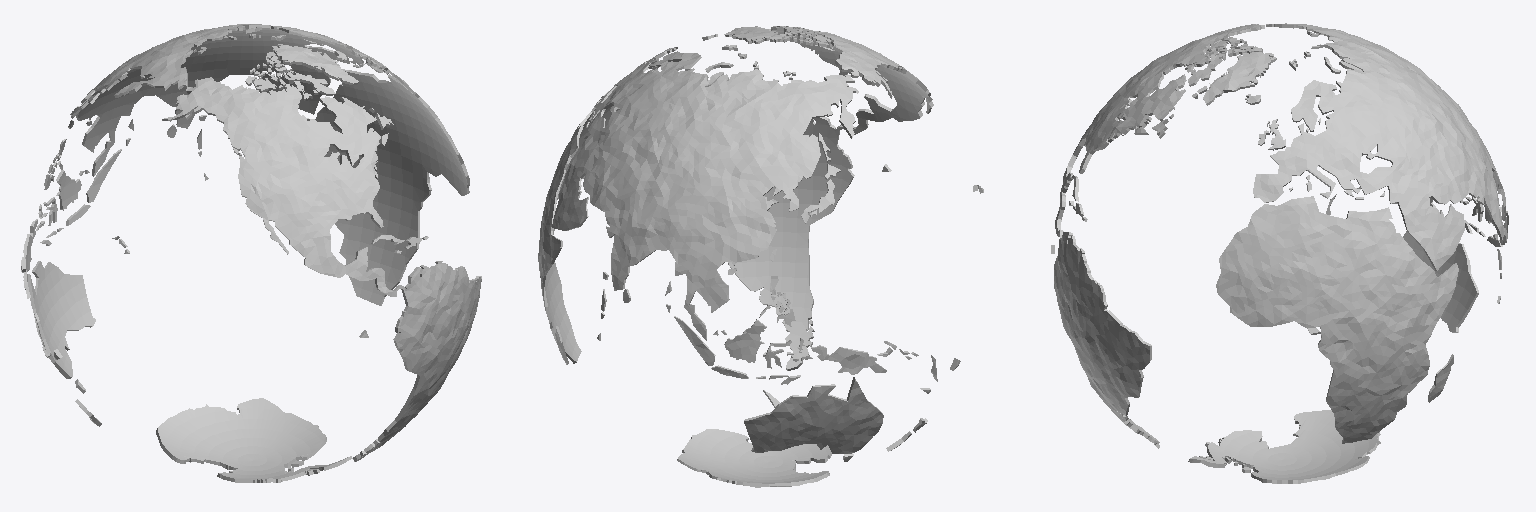
The model's file is globe.obj.
3 renders of one model, left to right at view 1: azimuth 30°, elevation 25°; view 2: azimuth 150°, elevation 25°; view 3: azimuth 270°, elevation 25°, orthographic.
Visible parts, largest first — view 1: Icosphere.002; view 2: Icosphere.002; view 3: Icosphere.002.
Boxes of the visible parts, x1,y1,x2,y2 form: Icosphere.002: [21, 24, 481, 482]; Icosphere.002: [538, 26, 983, 487]; Icosphere.002: [1051, 23, 1508, 483].
Bounding box in the file's own units: 1.95 × 1.99 × 1.98.